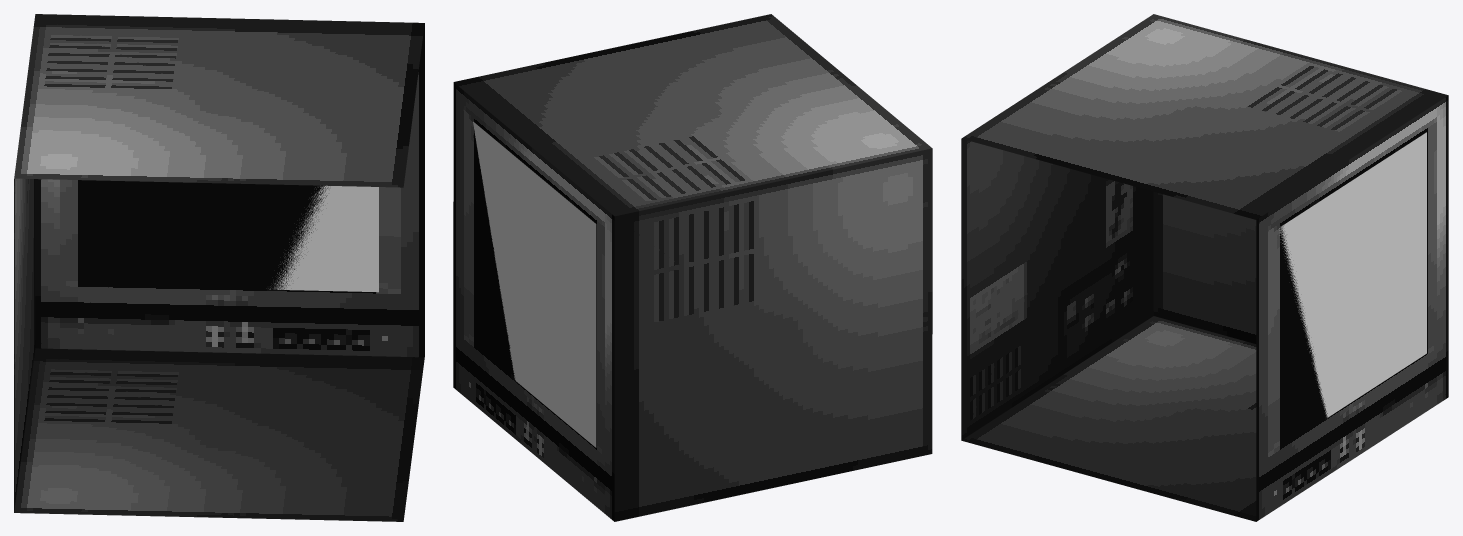
Rendered from primary_024.glb.
3 views of the same model, side by side, from view 1: azimuth 30°, elevation 25°; view 2: azimuth 150°, elevation 25°; view 3: azimuth 270°, elevation 25° (orthographic). The views are drawn at different scales.
Visible parts, largest first — view 1: Object; view 2: Object; view 3: Object.
Boxes of the visible parts, x1=… form: Object: x1=14, y1=14, x2=424, y2=521; Object: x1=453, y1=14, x2=932, y2=521; Object: x1=961, y1=14, x2=1448, y2=521.
Bounding box in the file's own units: 0.6386 × 0.4366 × 0.6386.
7 materials, 7 textured.
